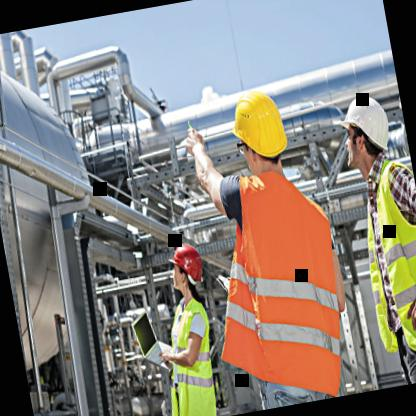helmet: (226, 82, 304, 183), (330, 80, 402, 178), (166, 230, 212, 296)
